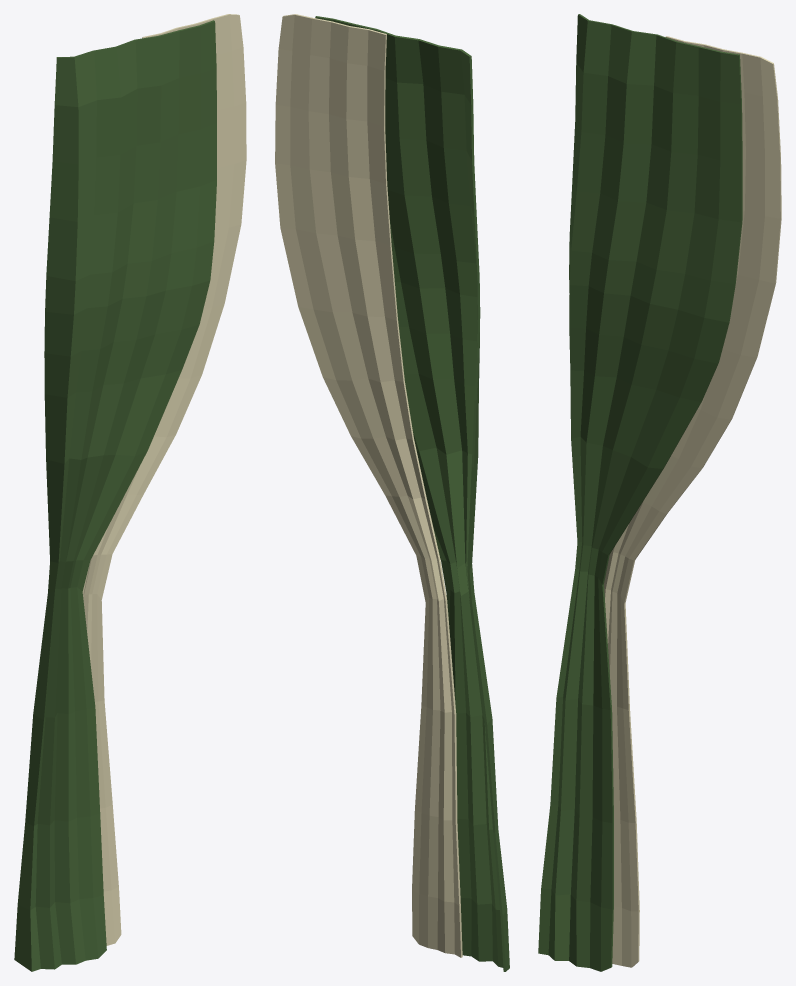
File: Curtain_1_L.fbx
The picture shows the model from 3 angles, left to right: view 1: azimuth 30°, elevation 25°; view 2: azimuth 150°, elevation 25°; view 3: azimuth 330°, elevation 25°; orthographic projection. The views are drawn at different scales.
Parts seen in each view (by area): view 1: Curtain_1_L; view 2: Curtain_1_L; view 3: Curtain_1_L.
Boxes of the visible parts, x1=… form: Curtain_1_L: x1=14, y1=14, x2=246, y2=971; Curtain_1_L: x1=275, y1=14, x2=509, y2=971; Curtain_1_L: x1=538, y1=14, x2=781, y2=971.
Size of the model in its own units: 52.06 by 195 by 7.
